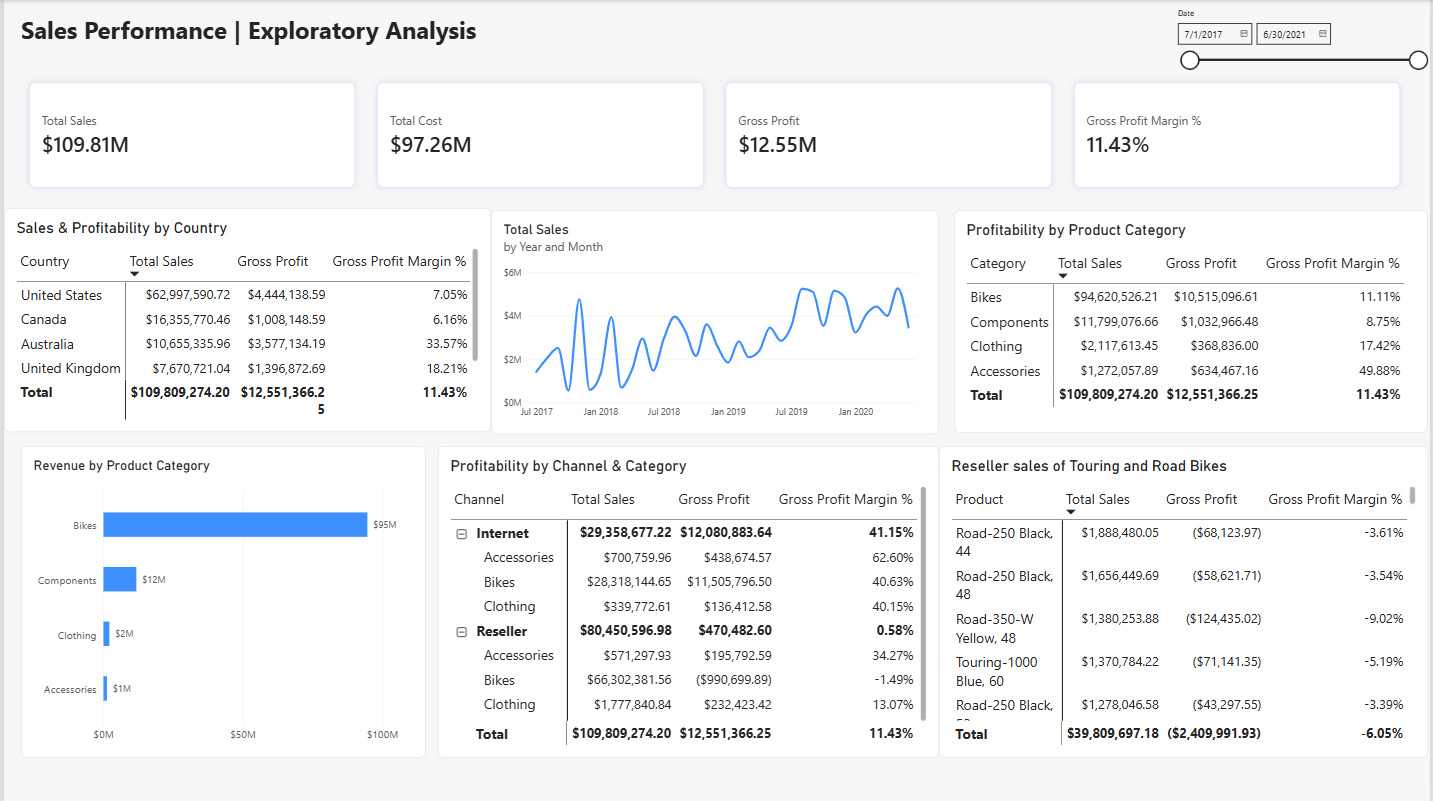

What the dashboard file says about the page in this screenshot:
{"tool":"powerbi","page":{"name":"Exploratory Analysis","canvas":[1920,1080],"ordinal":0},"visuals":[{"type":"cardVisual","fields":{"Data":["_Measures.Total Sales","_Measures.Total Cost","_Measures.Gross Profit","_Measures.Gross Profit Margin %"]},"box":[22.9,99.7,1869.1,164.3],"z":0},{"type":"lineChart","fields":{"Category":["Date.Date.Variation.Date Hierarchy.Year","Date.Date.Variation.Date Hierarchy.Month"],"Y":["_Measures.Total Sales"]},"box":[655.8,282.8,603.3,301.6],"z":1000},{"type":"clusteredBarChart","title":"Revenue by Product Category","fields":{"Category":["Product.Category"],"Y":["_Measures.Total Sales"]},"box":[22.9,600.6,545.4,420.1],"z":2000},{"type":"pivotTable","title":"Profitability by Product Category","fields":{"Rows":["Product.Category"],"Values":["_Measures.Total Sales","_Measures.Gross Profit","_Measures.Gross Profit Margin %"]},"box":[1279.3,282.8,638.3,300.3],"z":3000},{"type":"pivotTable","title":"Profitability by Channel & Category","fields":{"Rows":["SalesOrder.Channel","Product.Category"],"Values":["_Measures.Total Sales","_Measures.Gross Profit","_Measures.Gross Profit Margin %"]},"box":[584.4,600.6,674.7,420.1],"z":4000},{"type":"pivotTable","title":"Reseller sales of Touring and Road Bikes","fields":{"Rows":["Product.Product"],"Values":["_Measures.Total Sales","_Measures.Gross Profit","_Measures.Gross Profit Margin %"]},"box":[1259.1,600.6,658.5,420.1],"z":5000},{"type":"pivotTable","title":"Sales & Profitability by Country","fields":{"Rows":["SalesTerritory.Country"],"Values":["_Measures.Total Sales","_Measures.Gross Profit","_Measures.Gross Profit Margin %"]},"box":[0,280.1,655.8,301.6],"z":6000},{"type":"textbox","box":[22.9,17.5,626.2,76.8],"z":6001},{"type":"slicer","fields":{"Values":["Date.Date"]},"box":[1572.9,12.1,347.4,87.5],"z":6002}]}

Visuals, with their boxes in screenshot pixels (x1, y1, x2, y2), scaled from the page's 1920x1080 canvas onto the 1433x801 screenshot:
cardVisual - _Measures.Total Sales x _Measures.Total Cost: select_region(17, 74, 1412, 196)
lineChart - Date.Date.Variation.Date Hierarchy.Year x Date.Date.Variation.Date Hierarchy.Month: select_region(489, 210, 940, 433)
"Revenue by Product Category" clusteredBarChart: select_region(17, 445, 424, 757)
"Profitability by Product Category" pivotTable: select_region(955, 210, 1431, 432)
"Profitability by Channel & Category" pivotTable: select_region(436, 445, 940, 757)
"Reseller sales of Touring and Road Bikes" pivotTable: select_region(940, 445, 1431, 757)
"Sales & Profitability by Country" pivotTable: select_region(0, 208, 489, 431)
textbox: select_region(17, 13, 484, 70)
slicer - Date.Date: select_region(1174, 9, 1432, 74)
